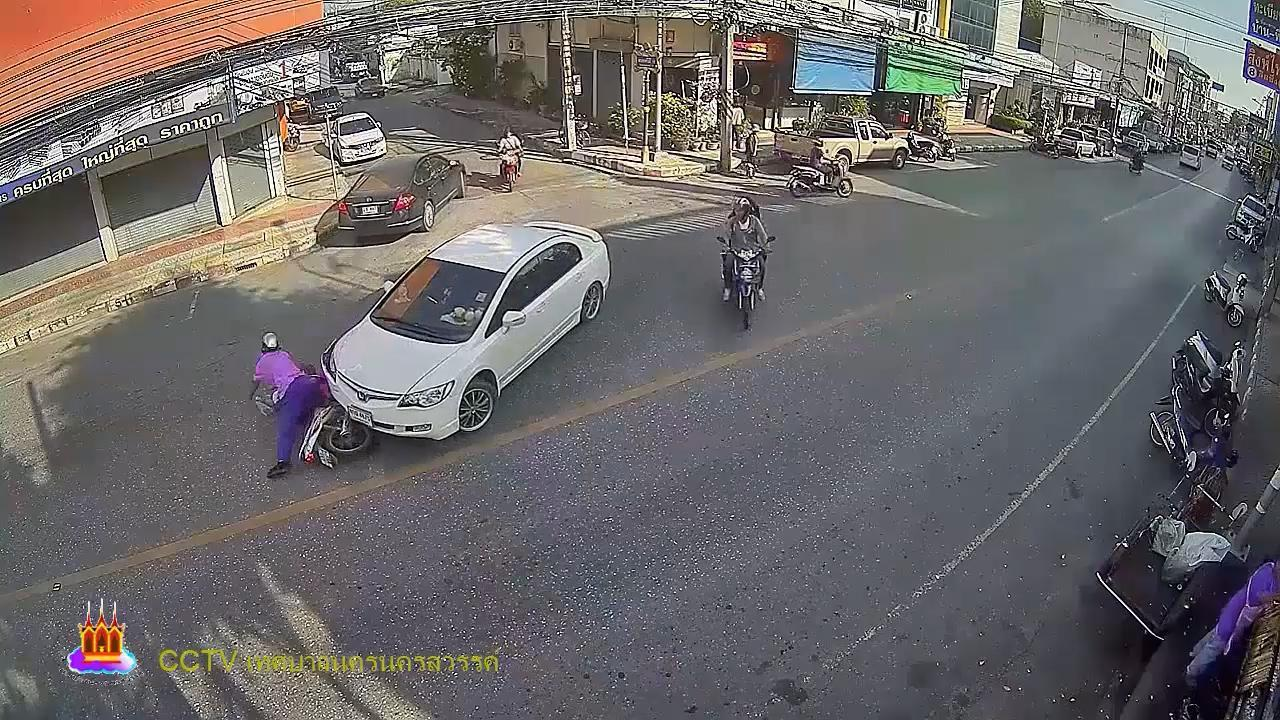accident: (243, 333, 329, 482)
